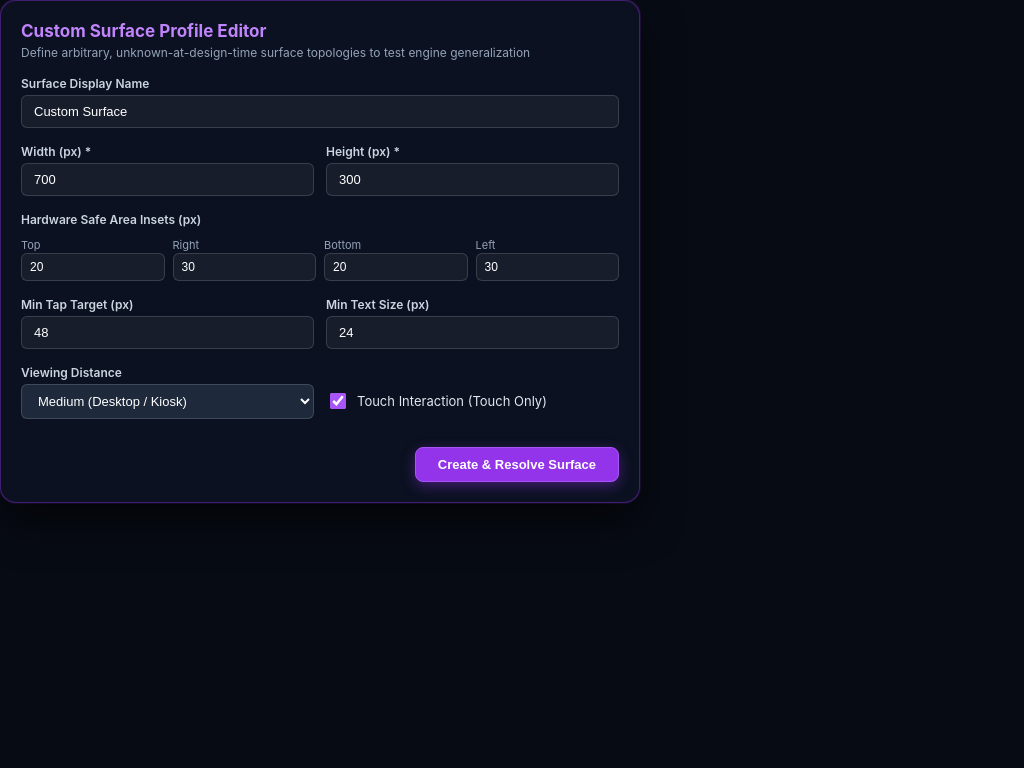
Test: Custom / Unknown 5th Surface Generalization (Phase 11) › displays specific inline error messages when invalid surface parameters are entered
Set width to 30px, while minTapTarget is 48px (impossible to satisfy)
Replace the text in the number field labelled "Width (px) *" with "30" at (168, 180), box [21,163,314,196]
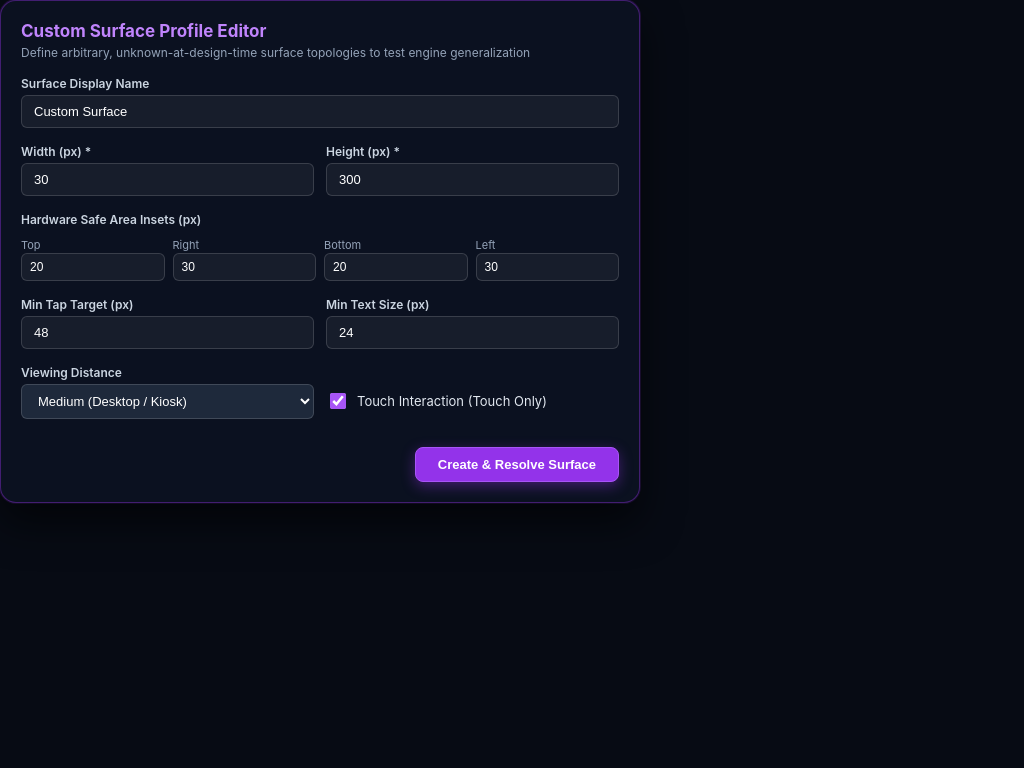
Replace the text in the number field labelled "Min Tap Target (px)" with "50" at (168, 332), box [21,316,314,349]
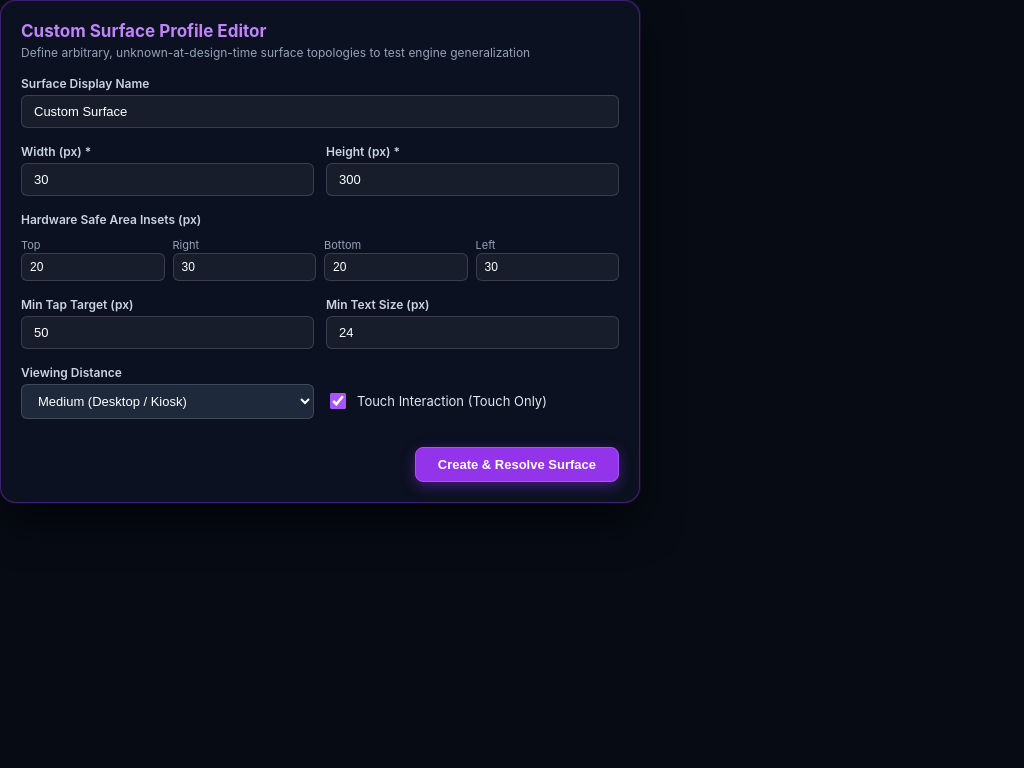
Click the button "Create & Resolve Surface" at (517, 464), box [415,447,619,482]
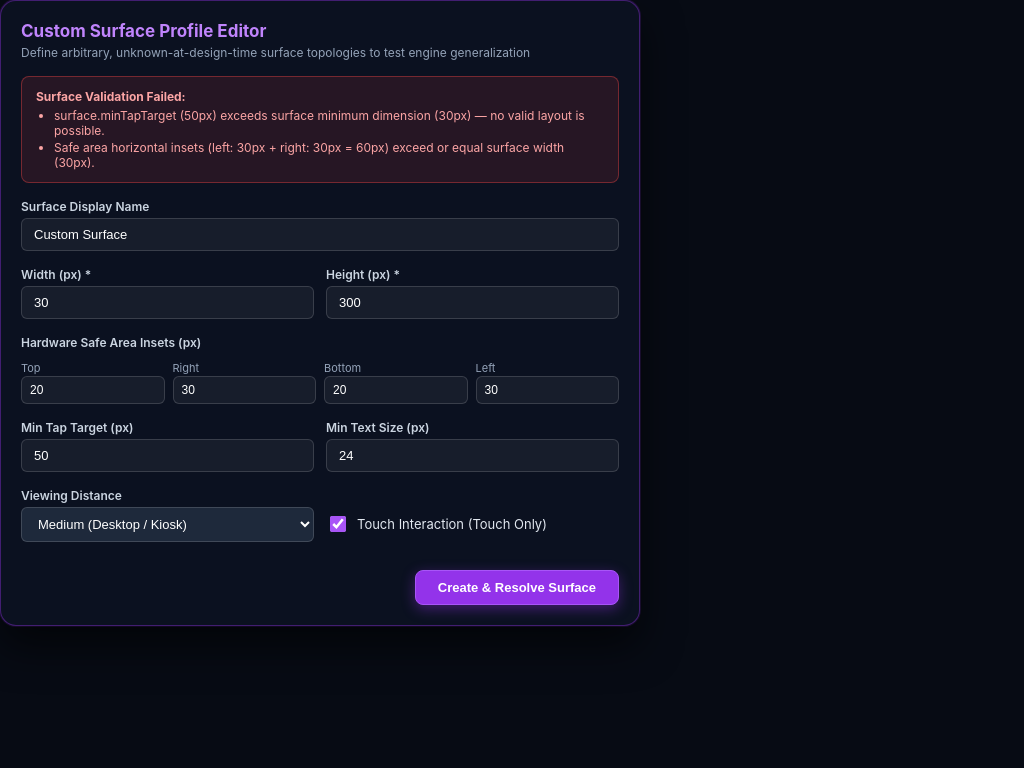
Now the message is shown, box [21,76,619,183]
Now the text "Surface Validation Failed:" is shown, box [36,89,186,104]
Now the list item "exceeds surface minimum dimension" is shown, box [54,108,585,138]
